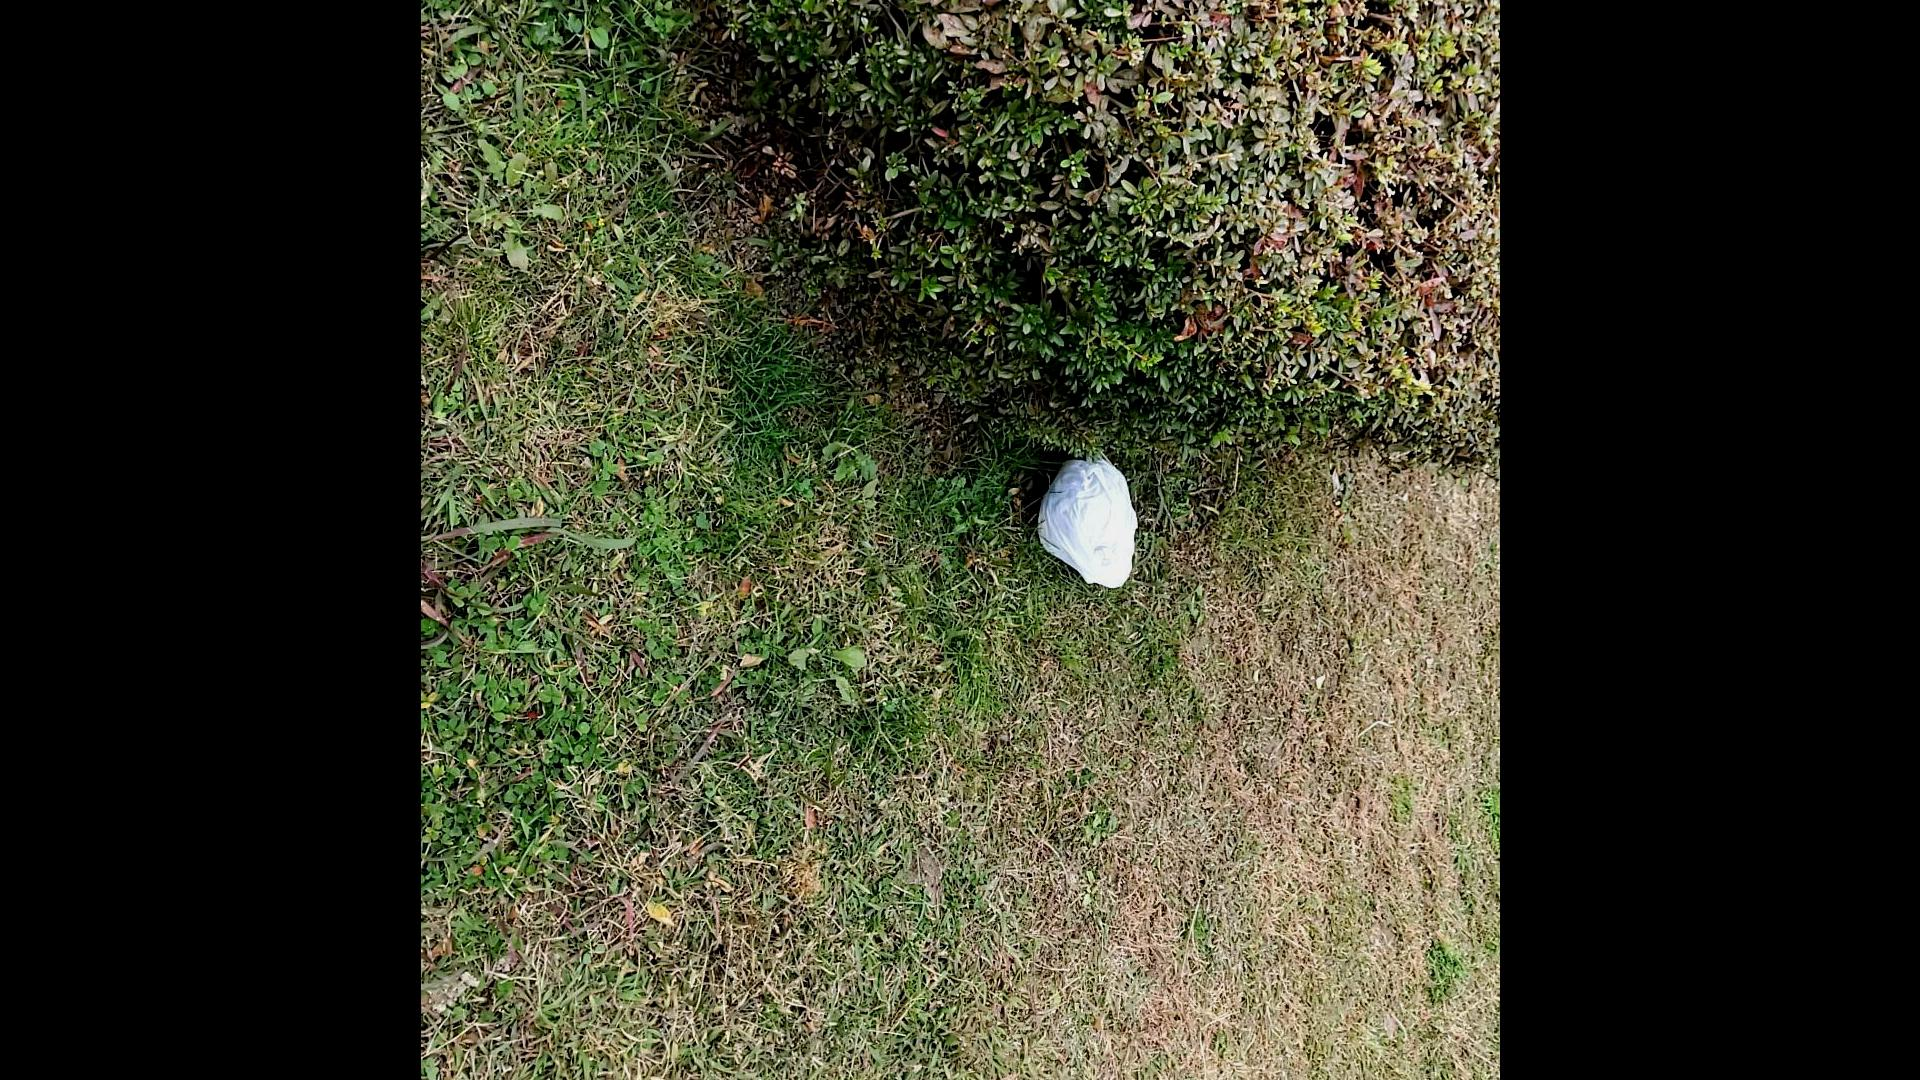white_bag: (1017, 438, 1150, 596)
